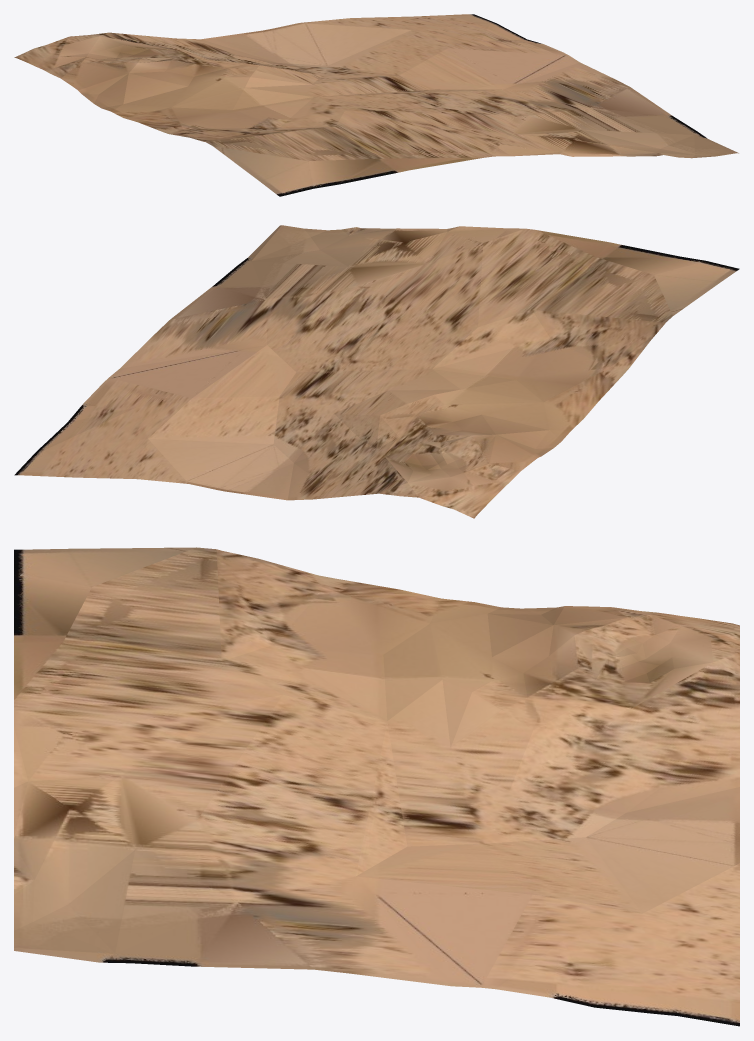
The picture shows the model from 3 angles, top to bottom: view 1: azimuth 30°, elevation 25°; view 2: azimuth 150°, elevation 25°; view 3: azimuth 270°, elevation 25°; orthographic projection. The views are drawn at different scales.
Size of the model in its own units: 4.18 by 1.09 by 4.18.
Materials: 3 (3 with a texture image).
